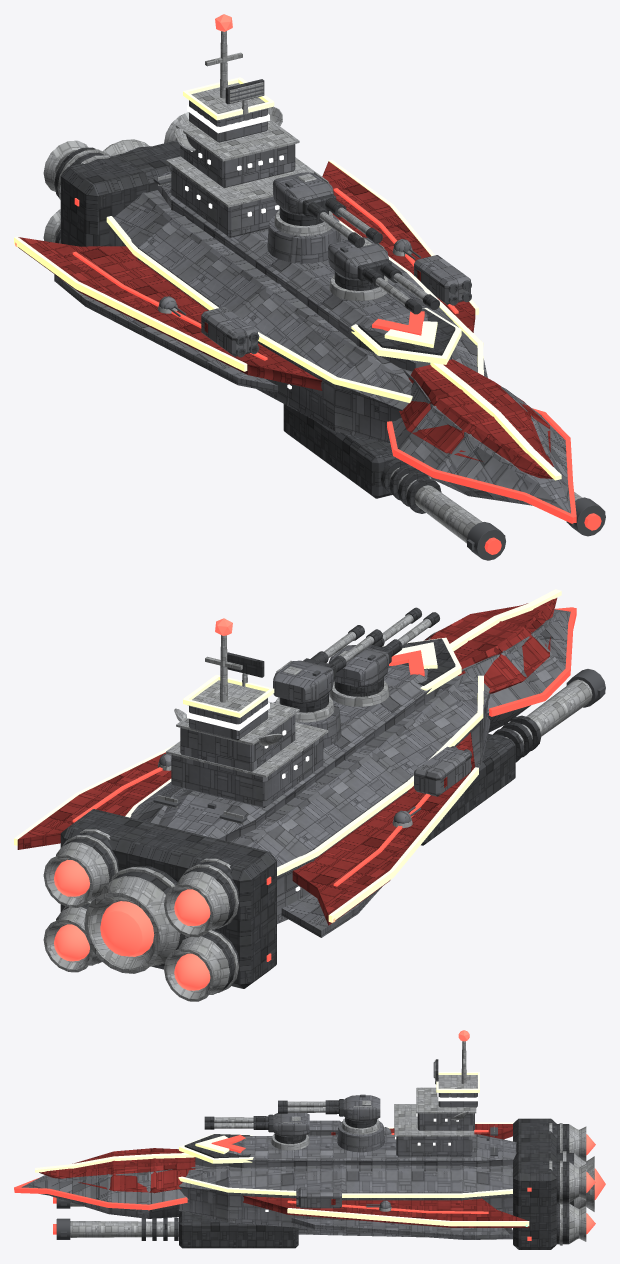
The model's file is vanguard.glb.
The picture shows the model from 3 angles, top to bottom: view 1: azimuth 30°, elevation 25°; view 2: azimuth 150°, elevation 25°; view 3: azimuth 270°, elevation 25°; orthographic projection. The views are drawn at different scales.
Parts seen in each view (by area): view 1: vanguard; view 2: vanguard; view 3: vanguard.
Part boxes in pixels (box(x1,y1,x2,y2)): vanguard: box(14, 14, 605, 560); vanguard: box(14, 589, 605, 1001); vanguard: box(14, 1030, 605, 1249).
Bounding box in the file's own units: 4.36 × 4.23 × 10.9.
Materials: 11 (4 with a texture image).
